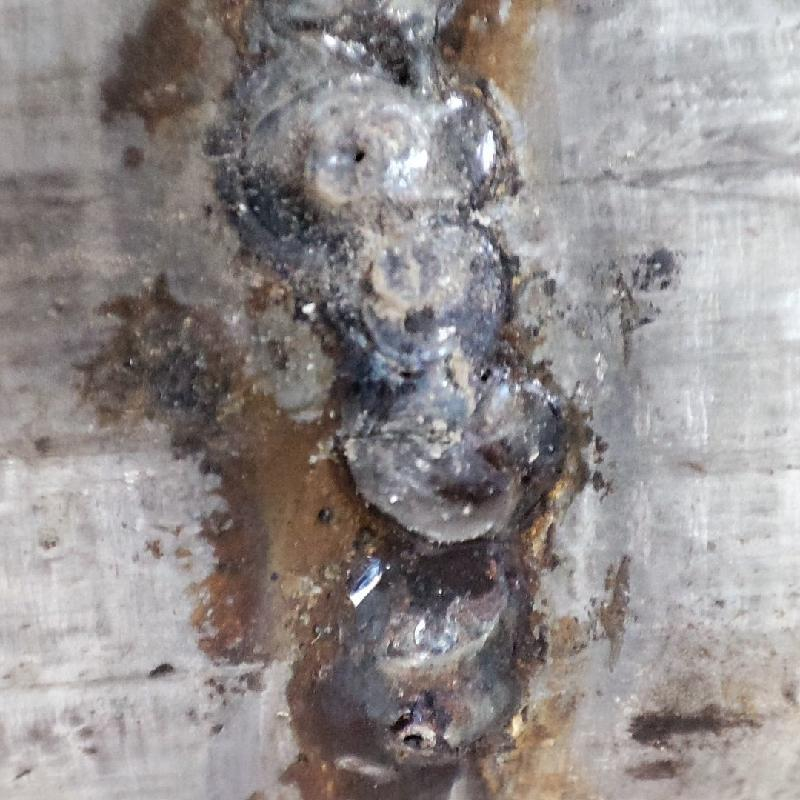Not_fully_soldered: (224, 2, 542, 542)
Surface_pores: (388, 711, 443, 762), (343, 130, 382, 179)
